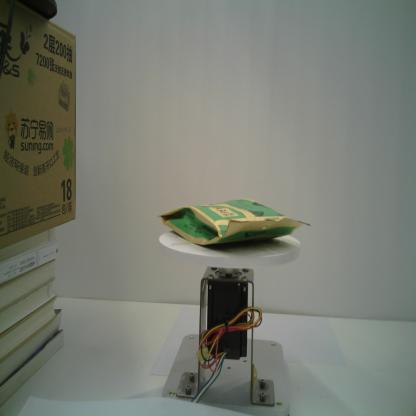Dried Food: (157, 198, 311, 246)
